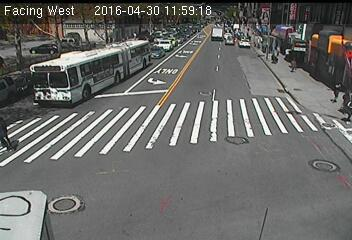neg: (119, 56, 134, 77), (81, 79, 96, 99), (26, 24, 31, 31)
pos: (327, 78, 346, 103), (342, 98, 351, 124), (288, 54, 301, 71), (343, 88, 351, 101)
